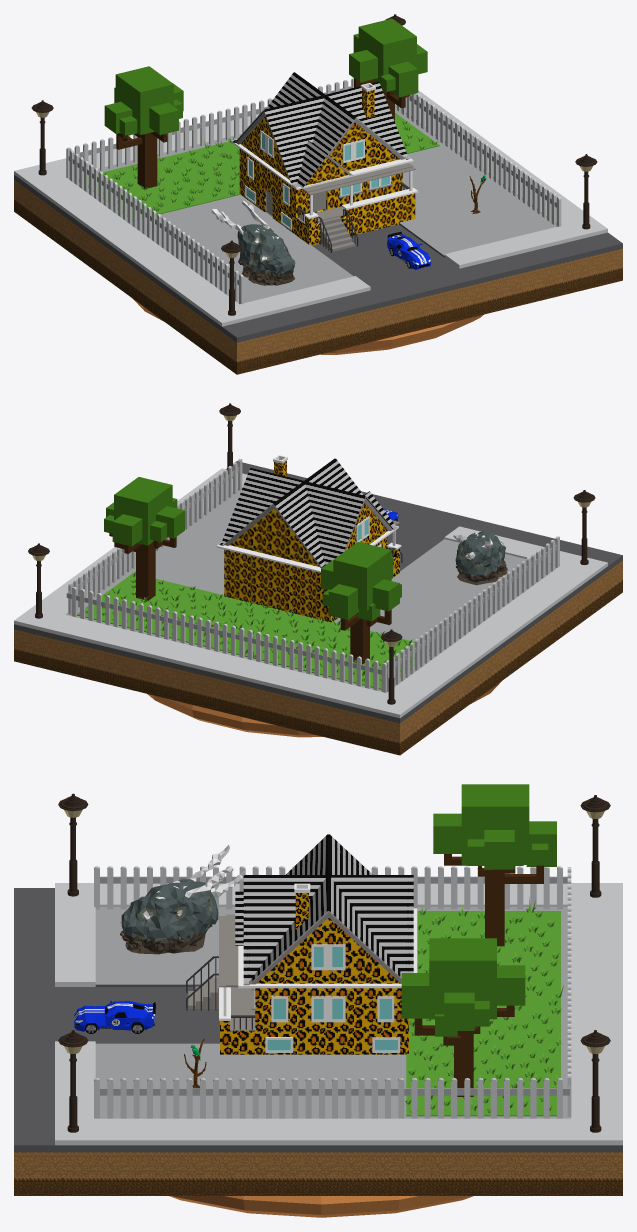
The picture shows the model from 3 angles, top to bottom: view 1: azimuth 30°, elevation 25°; view 2: azimuth 150°, elevation 25°; view 3: azimuth 270°, elevation 25°; orthographic projection. The views are drawn at different scales.
Parts seen in each view (by area): view 1: Cube.004, Cube.637, OBJRANDOM_METEORITE, UNDERGROUND_PIZZA, VEHICLES_RACING_CAR; view 2: Cube.004, Cube.637, OBJRANDOM_METEORITE, UNDERGROUND_PIZZA; view 3: Cube.004, Cube.637, OBJRANDOM_METEORITE, UNDERGROUND_PIZZA, VEHICLES_RACING_CAR.
Part boxes in pixels (x1,y1,x2,y2): Cube.004: (14,14,622,374); Cube.637: (231,72,418,252); OBJRANDOM_METEORITE: (211,200,295,285); UNDERGROUND_PIZZA: (132,298,483,354); VEHICLES_RACING_CAR: (387,232,431,269); Cube.004: (14,403,622,755); Cube.637: (216,455,402,622); OBJRANDOM_METEORITE: (453,531,507,585); UNDERGROUND_PIZZA: (147,681,501,737); Cube.004: (14,784,622,1195); Cube.637: (186,834,417,1054); OBJRANDOM_METEORITE: (120,845,245,954); UNDERGROUND_PIZZA: (169,1196,473,1217); VEHICLES_RACING_CAR: (74,1000,155,1033).
Size of the model in its own units: 4000 by 1812 by 4000.
Materials: 40 (4 with a texture image).
